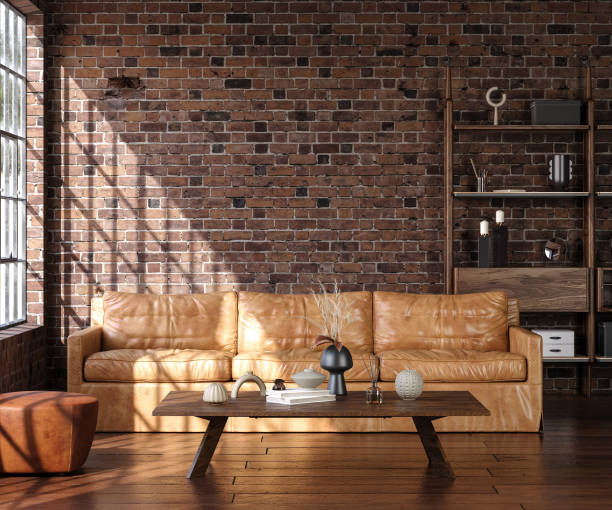chair: (1, 388, 99, 477)
sofa: (62, 288, 547, 438)
table: (152, 388, 492, 484)
